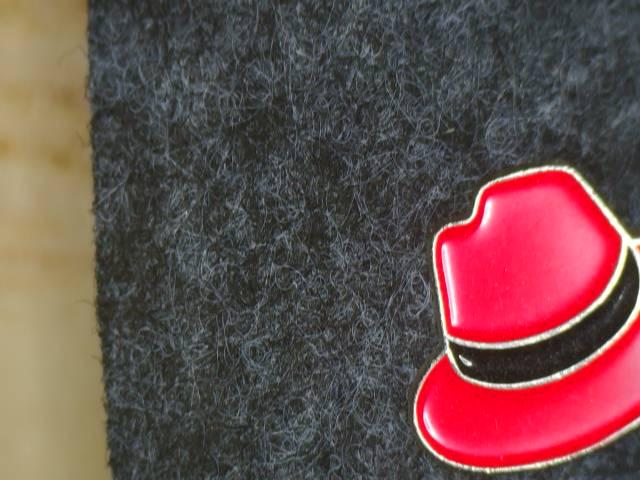Red-Hat: (365, 135, 640, 480)
